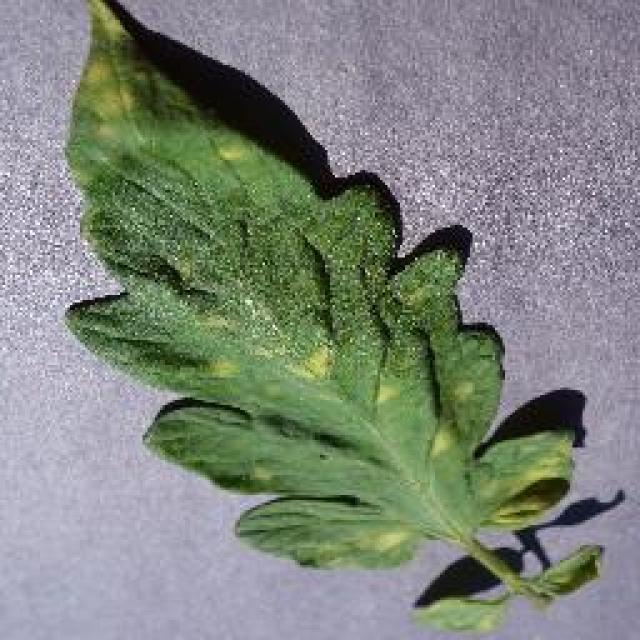Tomato___Leaf_Mold: (65, 0, 595, 628)
